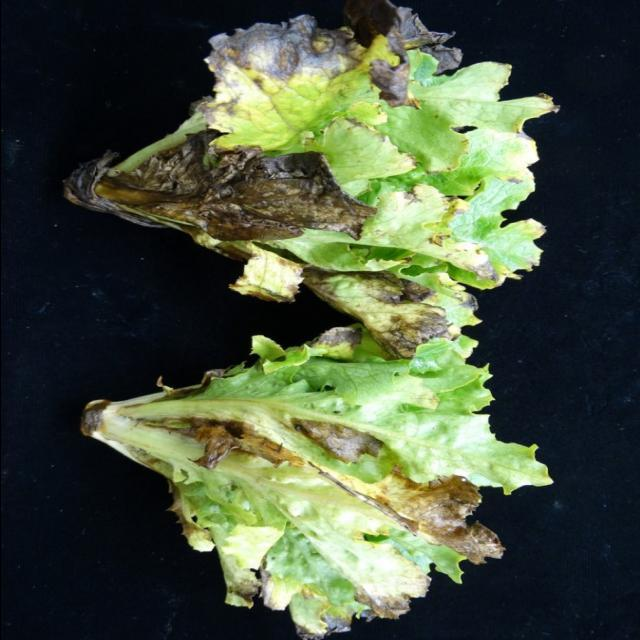Lettuce: (82, 10, 560, 333), (92, 318, 537, 640)
